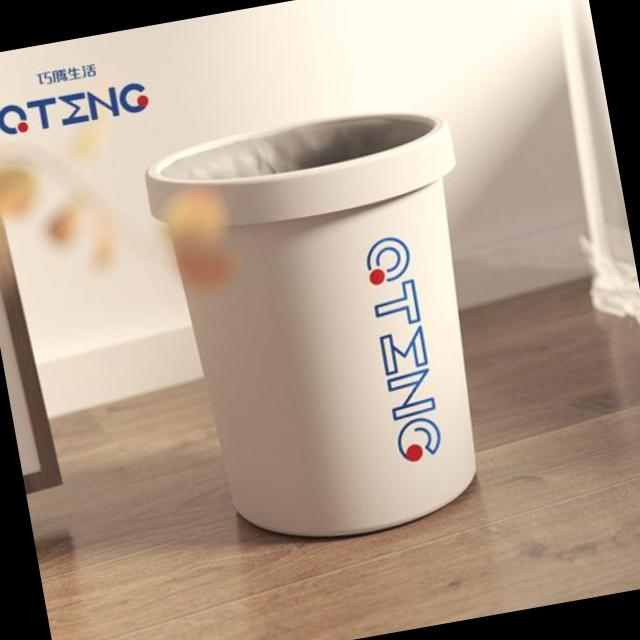dustbin: (136, 85, 523, 565)
